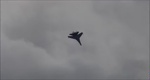maybay_muctieu: (69, 28, 84, 46)
